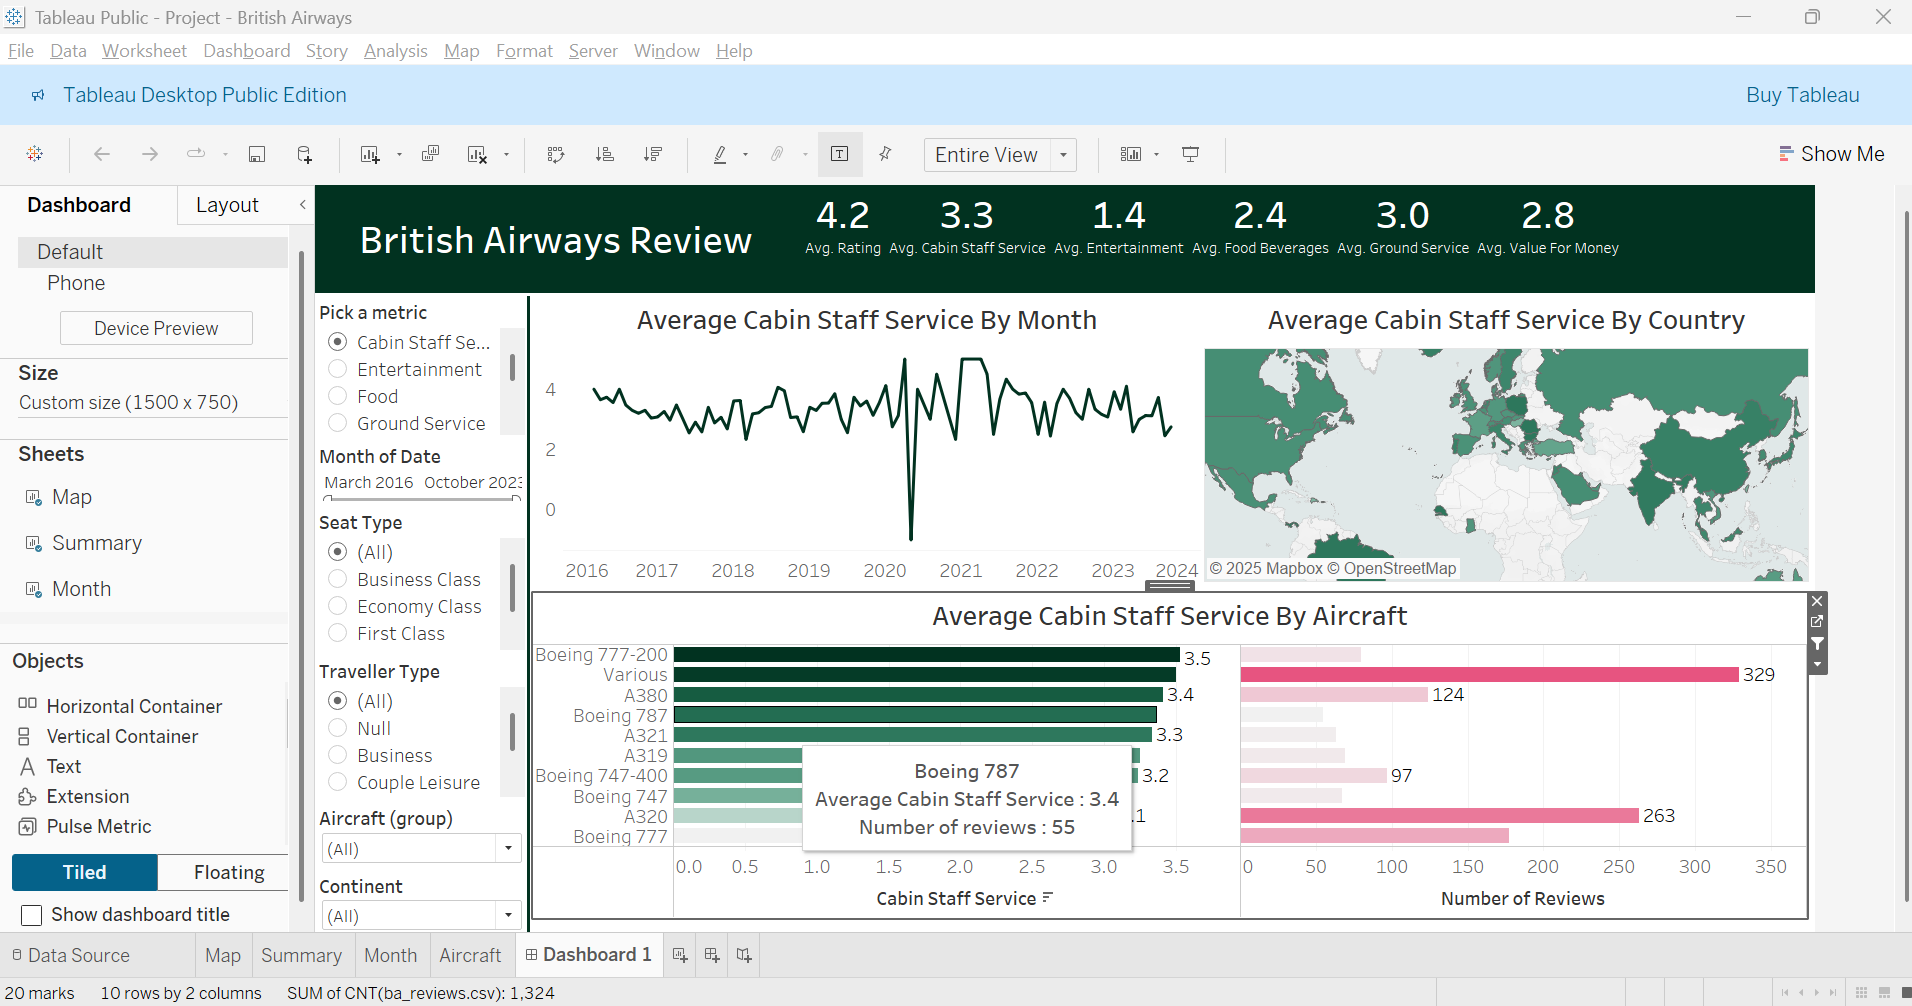

What the dashboard file says about the page in this screenshot:
{"tool":"tableau","page":{"name":"Dashboard 1","canvas":[1500,750],"ordinal":0},"visuals":[{"type":"filter","title":"Summary","param":"[federated.0crrjpv1pesoxl10ijvfz1sfb1tr].[Aircraft (group)]","box":[0,0,1500,750]},{"type":"text","box":[0,0,482.1,108]},{"type":"worksheet","title":"Summary","mark":"Automatic","box":[482.1,0,1017.9,108]},{"type":"parameter","param":"[Parameters].[Parameter 1]","box":[0,110,214.3,144]},{"type":"blank","box":[212,111,3,638]},{"type":"worksheet","title":"Month","mark":"Automatic","rows":["Calculation_877076070332678144"],"cols":["date"],"box":[218,112,668,285]},{"type":"worksheet","title":"Map","mark":"Automatic","box":[889,112,605,285]},{"type":"filter","title":"Map","param":"[federated.0crrjpv1pesoxl10ijvfz1sfb1tr].[tmn:date:qk]","box":[0,254,214.3,65.5]},{"type":"filter","title":"Map","param":"[federated.0crrjpv1pesoxl10ijvfz1sfb1tr].[none:seat_type:nk]","box":[0,319.5,214.3,149]},{"type":"worksheet","title":"Aircraft","mark":"Automatic","cols":["Calculation_877076070332678144","ba_reviews.csv_0563ED0FB2AF4D07B02835C24EEB2731"],"box":[218,408,1274,325]},{"type":"filter","title":"Map","param":"[federated.0crrjpv1pesoxl10ijvfz1sfb1tr].[none:traveller_type:nk]","box":[0,468.5,214.3,147]},{"type":"filter","title":"Map","param":"[federated.0crrjpv1pesoxl10ijvfz1sfb1tr].[Aircraft (group)]","box":[0,615.5,214.3,68]},{"type":"filter","title":"Map","param":"[federated.0crrjpv1pesoxl10ijvfz1sfb1tr].[none:Continent:nk]","box":[0,683.5,214.3,65.5]}]}

Visuals, with their boxes on the page's 1500x750 design canvas (x1, y1, x2, y2). These are canvas units, not pixel positions in the 1912x1006 screenshot, which may show the page scaled, cropped or inside an application window:
"Summary" filter: <box>0,0,1500,750</box>
text: <box>0,0,482,108</box>
"Summary" worksheet: <box>482,0,1500,108</box>
parameter: <box>0,110,214,254</box>
blank: <box>212,111,215,749</box>
"Month" worksheet: <box>218,112,886,397</box>
"Map" worksheet: <box>889,112,1494,397</box>
"Map" filter: <box>0,254,214,320</box>
"Map" filter: <box>0,320,214,468</box>
"Aircraft" worksheet: <box>218,408,1492,733</box>
"Map" filter: <box>0,468,214,616</box>
"Map" filter: <box>0,616,214,684</box>
"Map" filter: <box>0,684,214,749</box>
